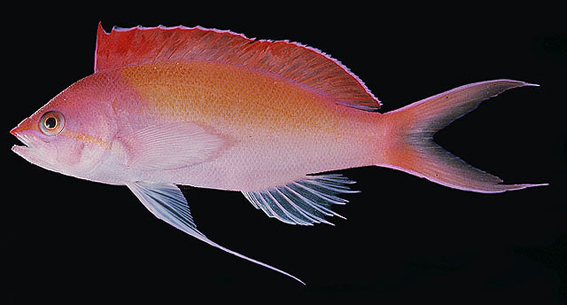fish: (9, 20, 550, 286)
